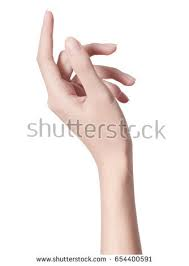hand: (22, 6, 152, 160)
